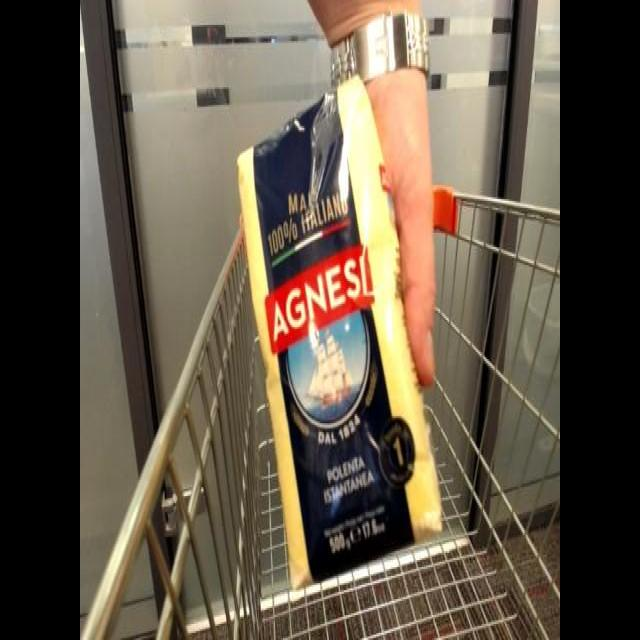Agnesi Polenta: (234, 69, 436, 591)
